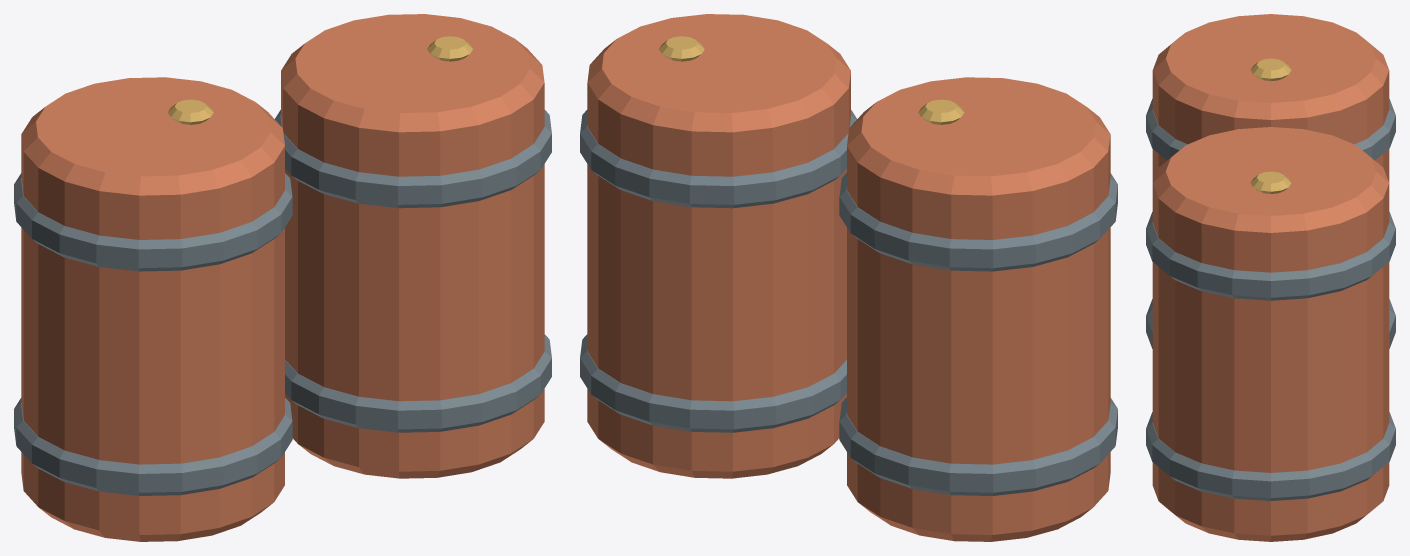
File: barrels_pair.glb
3 views of the same model, side by side, from view 1: azimuth 30°, elevation 25°; view 2: azimuth 150°, elevation 25°; view 3: azimuth 270°, elevation 25° (orthographic). The views are drawn at different scales.
Visible parts, largest first — view 1: Drum.002, Drum.003, Drum band.005, Drum band.004, Drum band.007, Drum band.006, Drum cap.002, Drum cap.003; view 2: Drum.002, Drum.003, Drum band.005, Drum band.004, Drum band.007, Drum band.006, Drum cap.002, Drum cap.003; view 3: Drum.003, Drum.002, Drum band.007, Drum band.006, Drum band.005, Drum cap.002, Drum cap.003, Drum band.004.
Boxes of the visible parts, box(x1,y1,x2,y2) form: Drum.002: box(21, 77, 284, 541); Drum.003: box(281, 14, 544, 478); Drum band.005: box(14, 173, 292, 271); Drum band.004: box(14, 397, 292, 495); Drum band.007: box(275, 110, 551, 208); Drum band.006: box(285, 334, 551, 432); Drum cap.002: box(167, 99, 213, 124); Drum cap.003: box(427, 36, 472, 61); Drum.002: box(847, 77, 1110, 541); Drum.003: box(587, 14, 850, 478); Drum band.005: box(839, 173, 1117, 271); Drum band.004: box(839, 397, 1117, 495); Drum band.007: box(580, 110, 856, 208); Drum band.006: box(580, 334, 846, 432); Drum cap.002: box(918, 99, 964, 124); Drum cap.003: box(659, 36, 704, 61); Drum.003: box(1152, 127, 1389, 541); Drum.002: box(1152, 14, 1389, 182); Drum band.007: box(1146, 212, 1395, 300); Drum band.006: box(1146, 412, 1395, 500); Drum band.005: box(1146, 99, 1395, 160); Drum cap.002: box(1250, 58, 1291, 80); Drum cap.003: box(1250, 171, 1291, 193); Drum band.004: box(1146, 299, 1395, 348).
Bounding box in the file's own units: 1.01 × 0.722 × 0.486.
